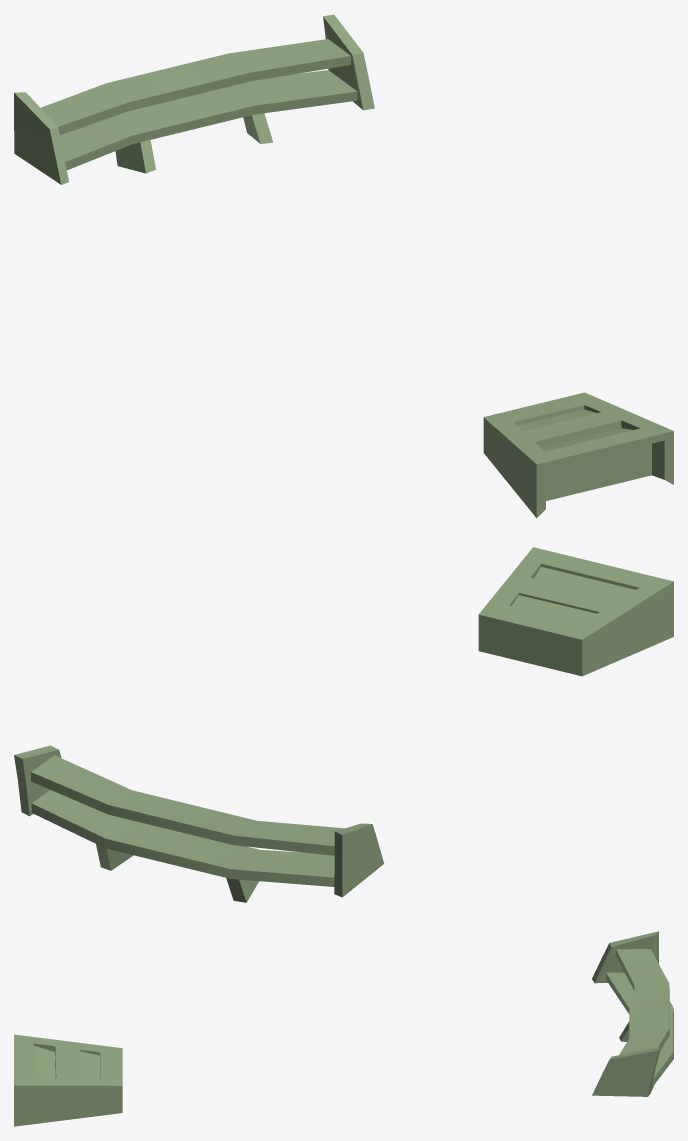
File: PJF_car_upgrades.fbx
3 renders of one model, top to bottom at view 1: azimuth 30°, elevation 25°; view 2: azimuth 150°, elevation 25°; view 3: azimuth 270°, elevation 25°, orthographic. The views are drawn at different scales.
Parts seen in each view (by area): view 1: spoler_upgrade, hood_upgrade, pCube7; view 2: spoler_upgrade, hood_upgrade, pCube7, pCube3; view 3: spoler_upgrade, hood_upgrade.
Part boxes in pixels (x1,y1,x2,y2): spoler_upgrade: [14, 14, 374, 184]; hood_upgrade: [483, 392, 673, 518]; pCube7: [115, 140, 155, 173]; spoler_upgrade: [14, 745, 384, 897]; hood_upgrade: [478, 547, 673, 676]; pCube7: [226, 878, 258, 902]; pCube3: [96, 844, 133, 870]; spoler_upgrade: [592, 931, 673, 1096]; hood_upgrade: [14, 1034, 122, 1126].
Size of the model in its own units: 1.52 by 0.6396 by 3.57.
